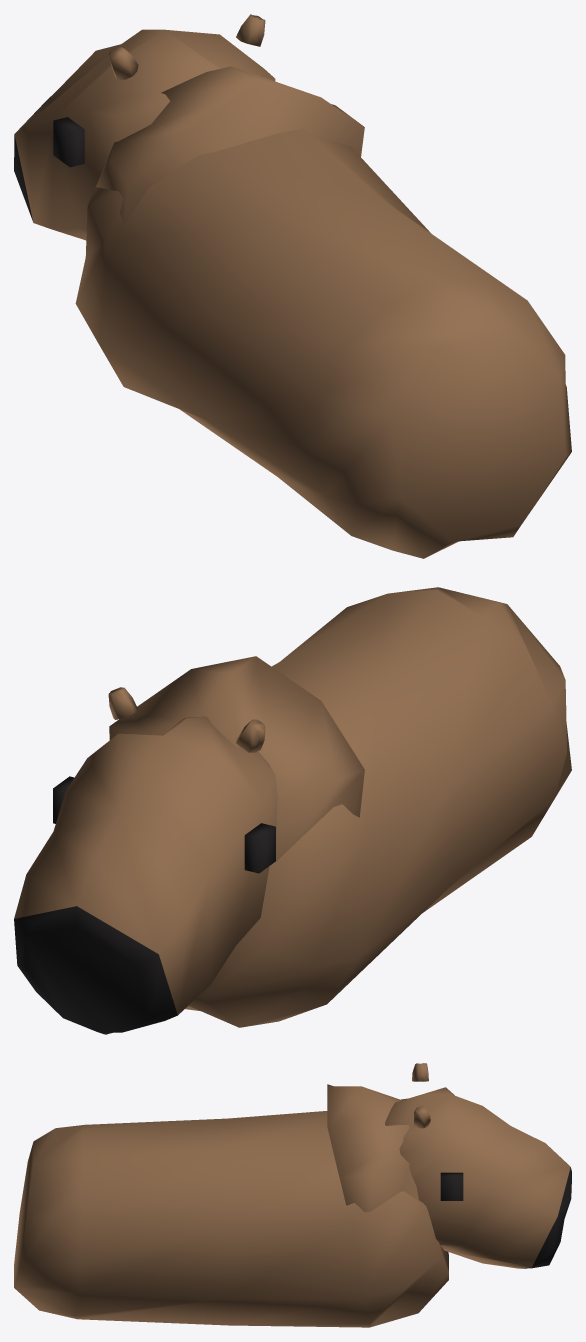
File: animal_capybara.obj
The picture shows the model from 3 angles, top to bottom: view 1: azimuth 30°, elevation 25°; view 2: azimuth 150°, elevation 25°; view 3: azimuth 270°, elevation 25°; orthographic projection. The views are drawn at different scales.
Parts seen in each view (by area): view 1: animal_capybara_component_01_stage_1, animal_capybara_component_03_stage_1, animal_capybara_component_02_stage_1, animal_capybara_component_04_stage_1, animal_capybara_component_06_stage_1, animal_capybara_component_07_stage_1; view 2: animal_capybara_component_01_stage_1, animal_capybara_component_03_stage_1, animal_capybara_component_02_stage_1, animal_capybara_component_04_stage_1, animal_capybara_component_06_stage_1, animal_capybara_component_07_stage_1; view 3: animal_capybara_component_01_stage_1, animal_capybara_component_03_stage_1, animal_capybara_component_02_stage_1, animal_capybara_component_05_stage_1.
Part boxes in pixels (box(x1,y1,x2,y2)): animal_capybara_component_01_stage_1: box(75, 128, 571, 558); animal_capybara_component_03_stage_1: box(14, 29, 275, 240); animal_capybara_component_02_stage_1: box(96, 66, 364, 224); animal_capybara_component_04_stage_1: box(53, 117, 84, 167); animal_capybara_component_06_stage_1: box(109, 47, 138, 80); animal_capybara_component_07_stage_1: box(236, 14, 265, 46); animal_capybara_component_01_stage_1: box(185, 587, 571, 1027); animal_capybara_component_03_stage_1: box(14, 716, 277, 1034); animal_capybara_component_02_stage_1: box(109, 656, 364, 861); animal_capybara_component_04_stage_1: box(244, 823, 275, 873); animal_capybara_component_06_stage_1: box(236, 719, 265, 752); animal_capybara_component_07_stage_1: box(108, 687, 137, 719); animal_capybara_component_01_stage_1: box(14, 1111, 448, 1327); animal_capybara_component_03_stage_1: box(385, 1087, 571, 1268); animal_capybara_component_02_stage_1: box(327, 1084, 425, 1213); animal_capybara_component_05_stage_1: box(440, 1172, 463, 1200).
Bounding box in the file's own units: 0.337 × 0.4115 × 0.9265.
